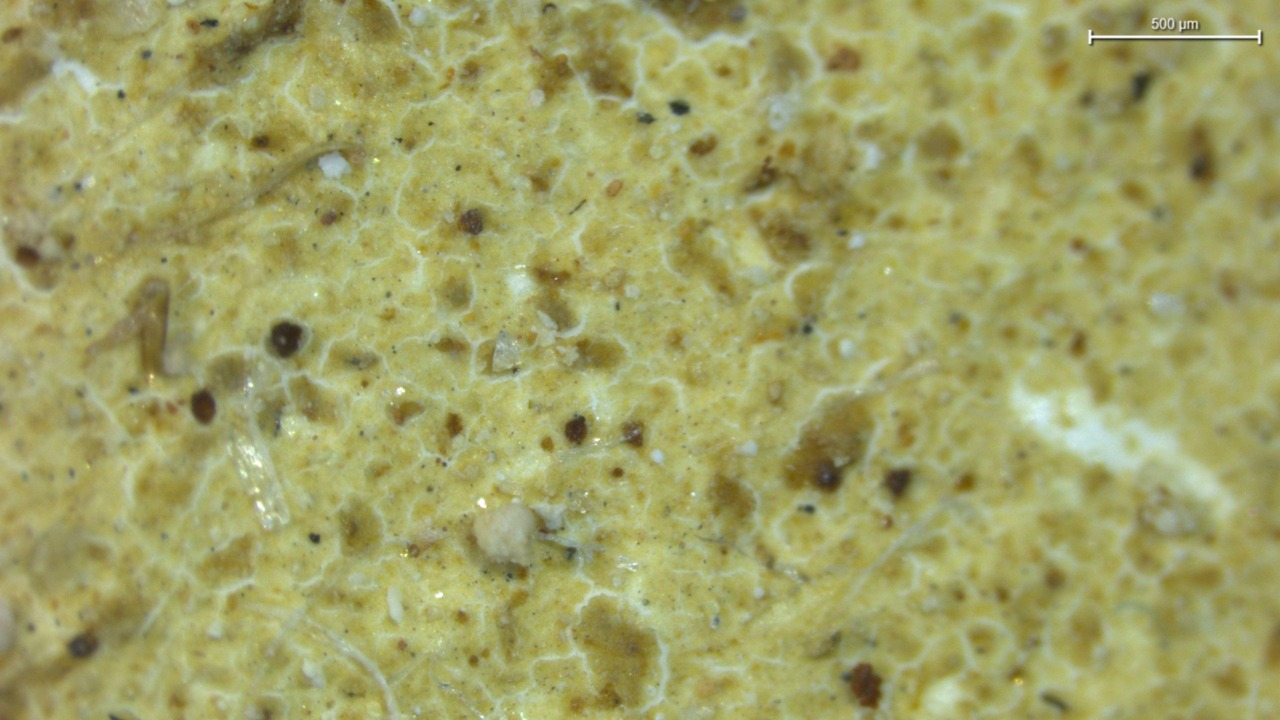microplastic_fragment: (473, 502, 538, 566)
